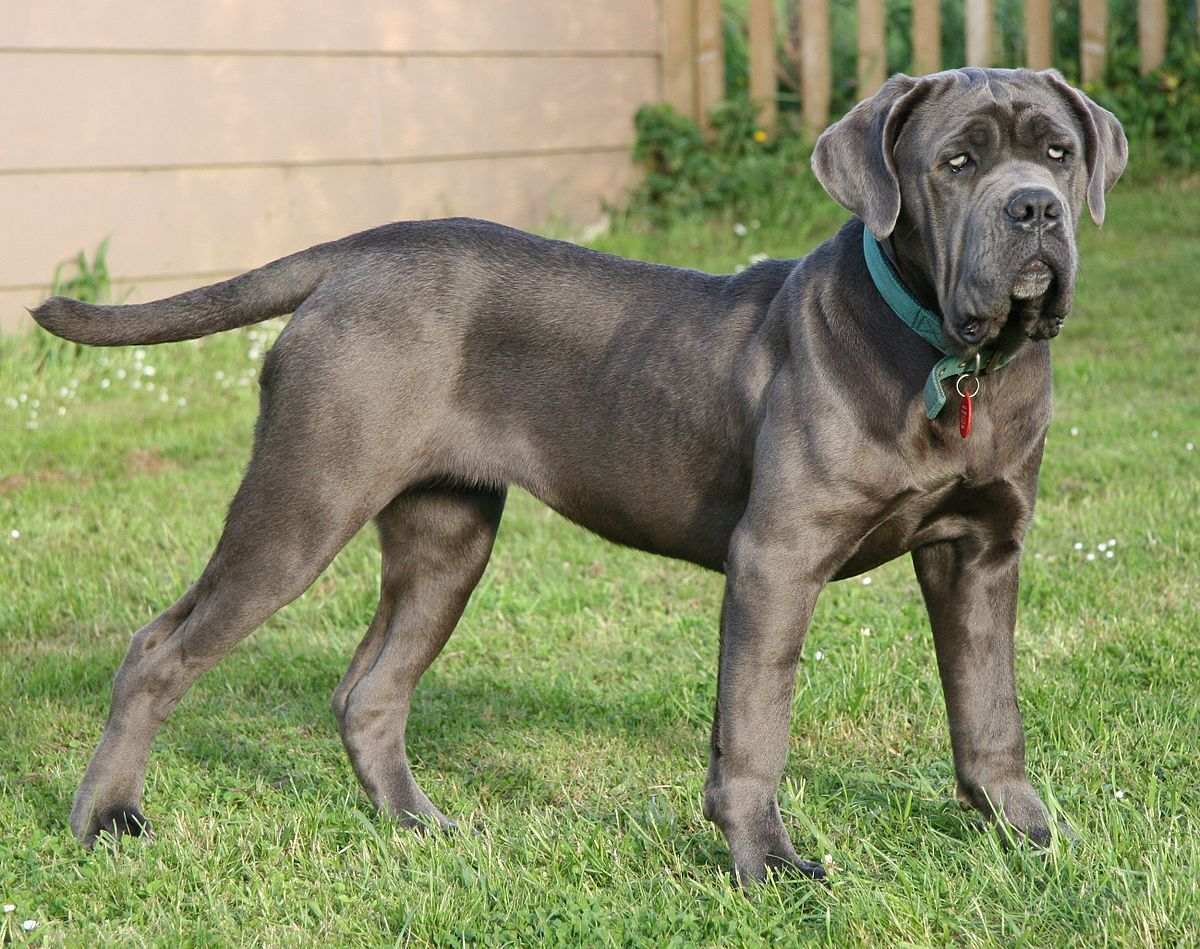neapolitan_mastiff: (25, 64, 1125, 883)
